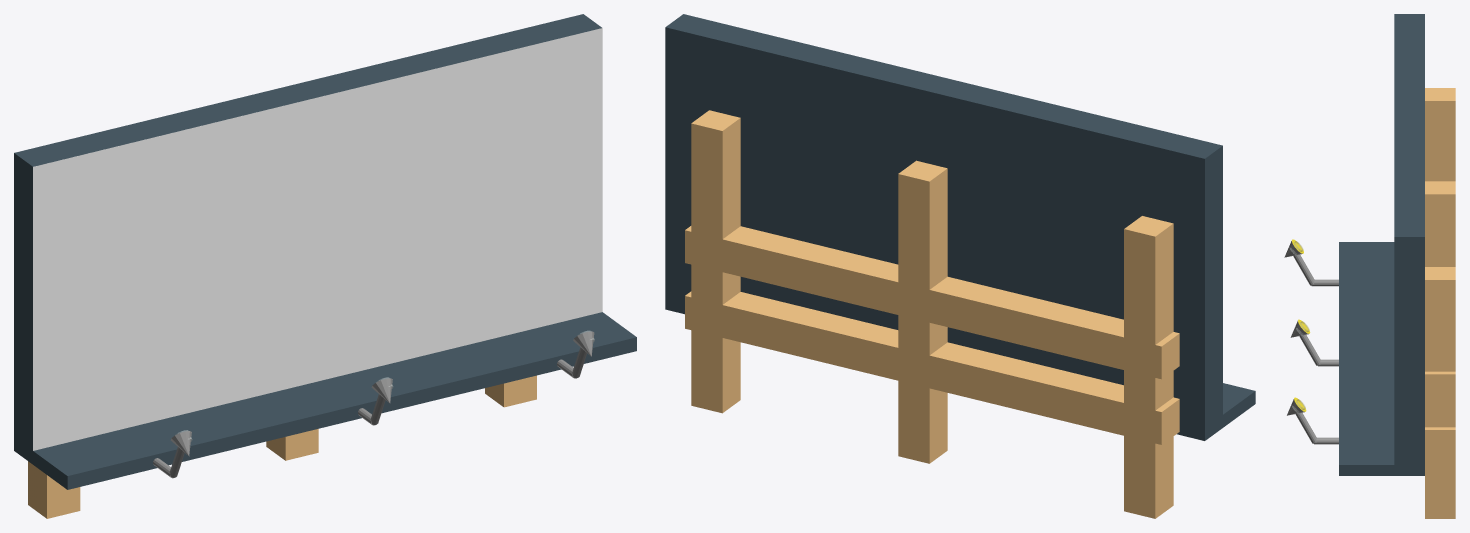
The model's file is billord1.glb.
3 views of the same model, side by side, from view 1: azimuth 30°, elevation 25°; view 2: azimuth 150°, elevation 25°; view 3: azimuth 270°, elevation 25° (orthographic). The views are drawn at different scales.
Parts seen in each view (by area): view 1: Node.001; view 2: Node.001; view 3: Node.001.
Boxes of the visible parts, x1,y1,x2,y2 form: Node.001: [14, 14, 636, 518]; Node.001: [665, 14, 1255, 518]; Node.001: [1284, 14, 1455, 518].
Bounding box in the file's own units: 0.86 × 0.54 × 0.2791.
